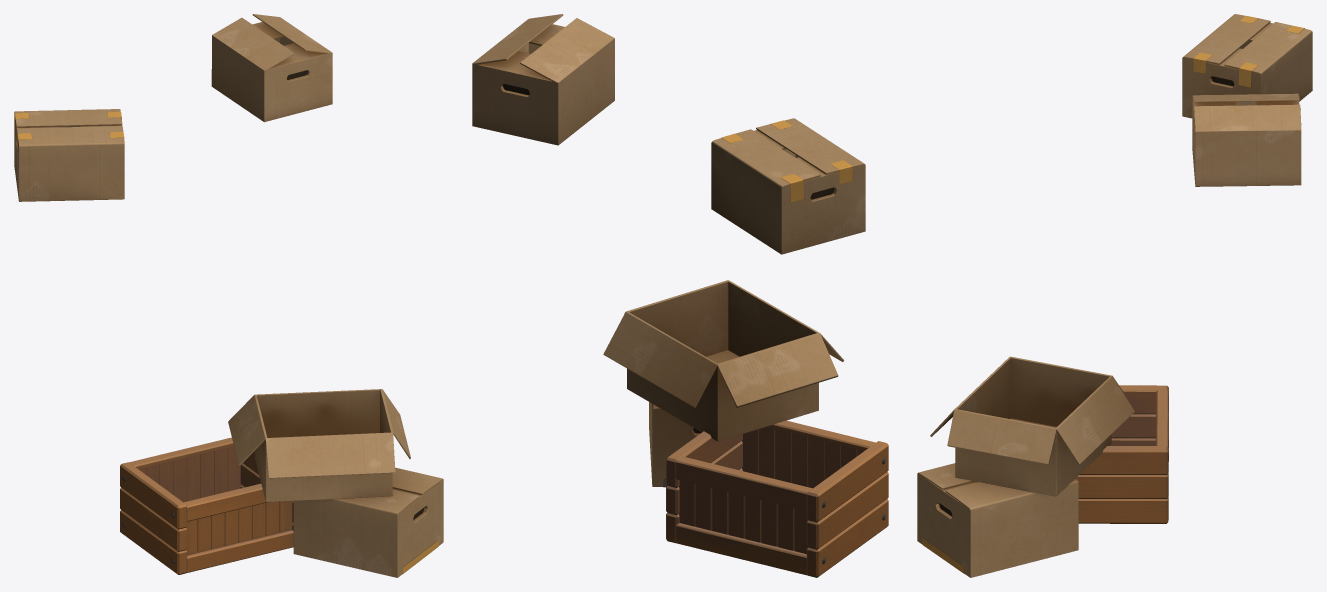
File: JapaneseRestaurant_Box.fbx
The picture shows the model from 3 angles, left to right: view 1: azimuth 30°, elevation 25°; view 2: azimuth 150°, elevation 25°; view 3: azimuth 270°, elevation 25°; orthographic projection. The views are drawn at different scales.
Visible parts, largest first — view 1: JapaneseRestaurant_Box; view 2: JapaneseRestaurant_Box; view 3: JapaneseRestaurant_Box.
Part boxes in pixels (left/top/right/bottom): JapaneseRestaurant_Box: left=14, top=14, right=443, bottom=577; JapaneseRestaurant_Box: left=472, top=14, right=888, bottom=577; JapaneseRestaurant_Box: left=917, top=14, right=1312, bottom=577.
Size of the model in its own units: 130 by 176 by 138.
